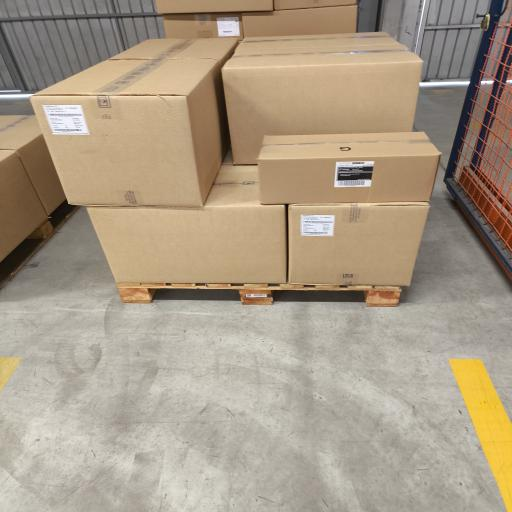pallet: (0, 202, 79, 289), (117, 283, 401, 306)
